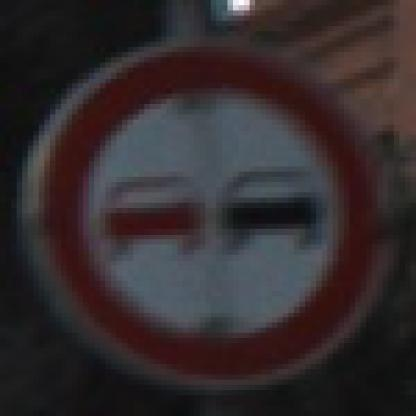No Overtaking: (34, 38, 384, 381)
